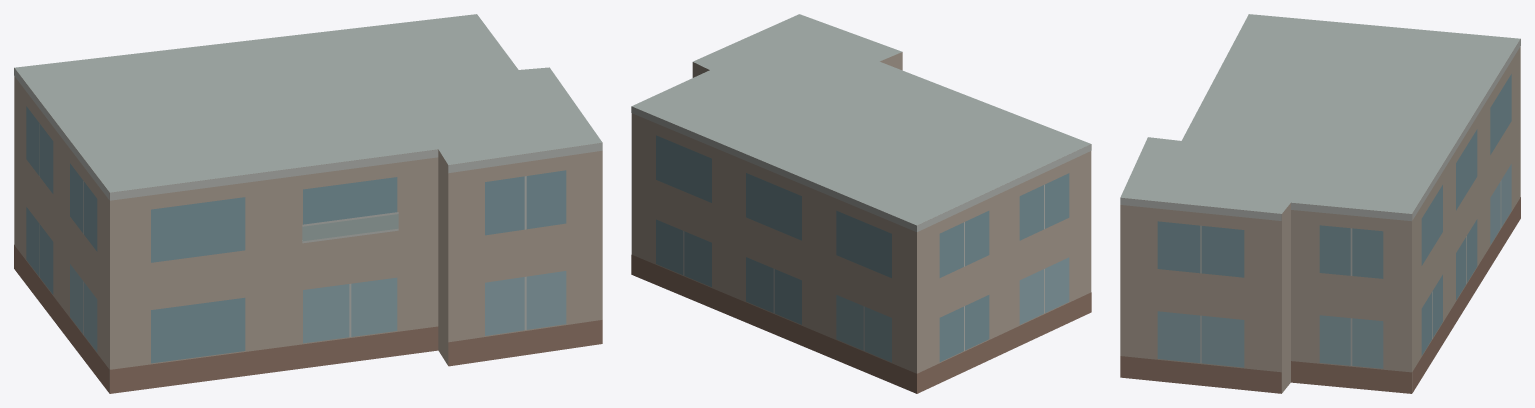
File: survey-upis-32820246.glb
The picture shows the model from 3 angles, left to right: view 1: azimuth 30°, elevation 25°; view 2: azimuth 150°, elevation 25°; view 3: azimuth 270°, elevation 25°; orthographic projection. The views are drawn at different scales.
Parts seen in each view (by area): view 1: survey-upis-32820246.tmp; view 2: survey-upis-32820246.tmp; view 3: survey-upis-32820246.tmp.
Part boxes in pixels (<box>): survey-upis-32820246.tmp: <box>14,14,602,393</box>; survey-upis-32820246.tmp: <box>631,14,1091,393</box>; survey-upis-32820246.tmp: <box>1120,14,1520,393</box>.
Size of the model in its own units: 14.56 by 6.1 by 12.32.
